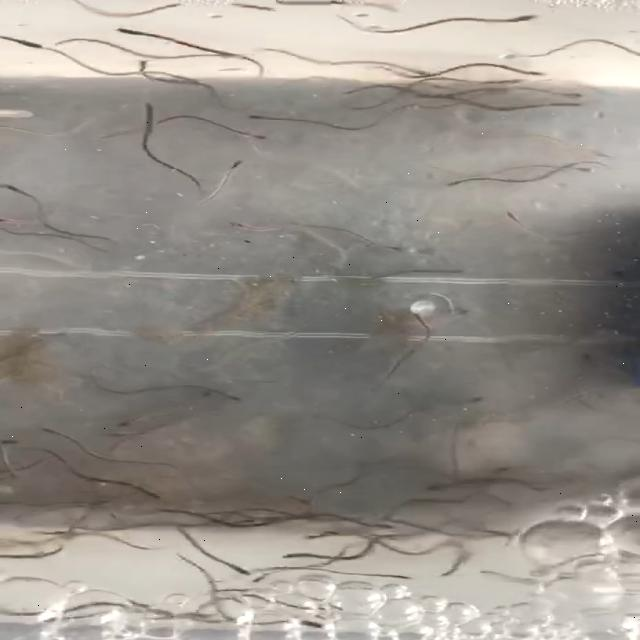active_glass_eel: (215, 158, 260, 175), (34, 419, 68, 441), (439, 174, 492, 188), (458, 390, 494, 410), (222, 558, 256, 579), (117, 414, 150, 434), (0, 180, 40, 196), (131, 486, 171, 502), (236, 129, 274, 145), (438, 566, 476, 582), (507, 10, 542, 27), (369, 514, 400, 533), (0, 432, 28, 453), (106, 25, 148, 39), (290, 616, 324, 632), (275, 546, 309, 562), (553, 90, 597, 102), (422, 479, 451, 497), (248, 2, 288, 15), (130, 100, 162, 116), (566, 166, 602, 180), (498, 71, 528, 87), (400, 308, 424, 328), (500, 208, 530, 224), (213, 388, 247, 402), (224, 218, 258, 232), (242, 112, 281, 124), (380, 240, 412, 254), (490, 51, 534, 61), (406, 66, 440, 78), (19, 36, 46, 51), (381, 571, 416, 582), (0, 215, 22, 231), (519, 67, 546, 79)
